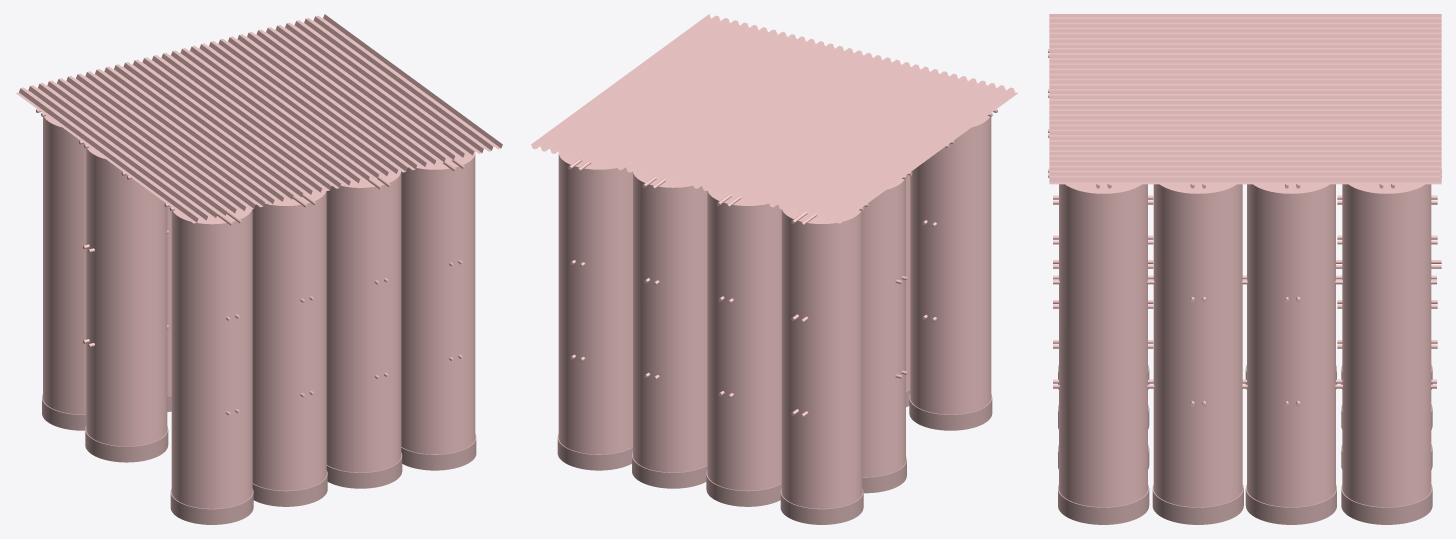
Rendered from 05-warehouse.glb.
3 views of the same model, side by side, from view 1: azimuth 30°, elevation 25°; view 2: azimuth 150°, elevation 25°; view 3: azimuth 270°, elevation 25° (orthographic). The views are drawn at different scales.
Bounding box in the file's own units: 5.15 × 5.01 × 5.14.
